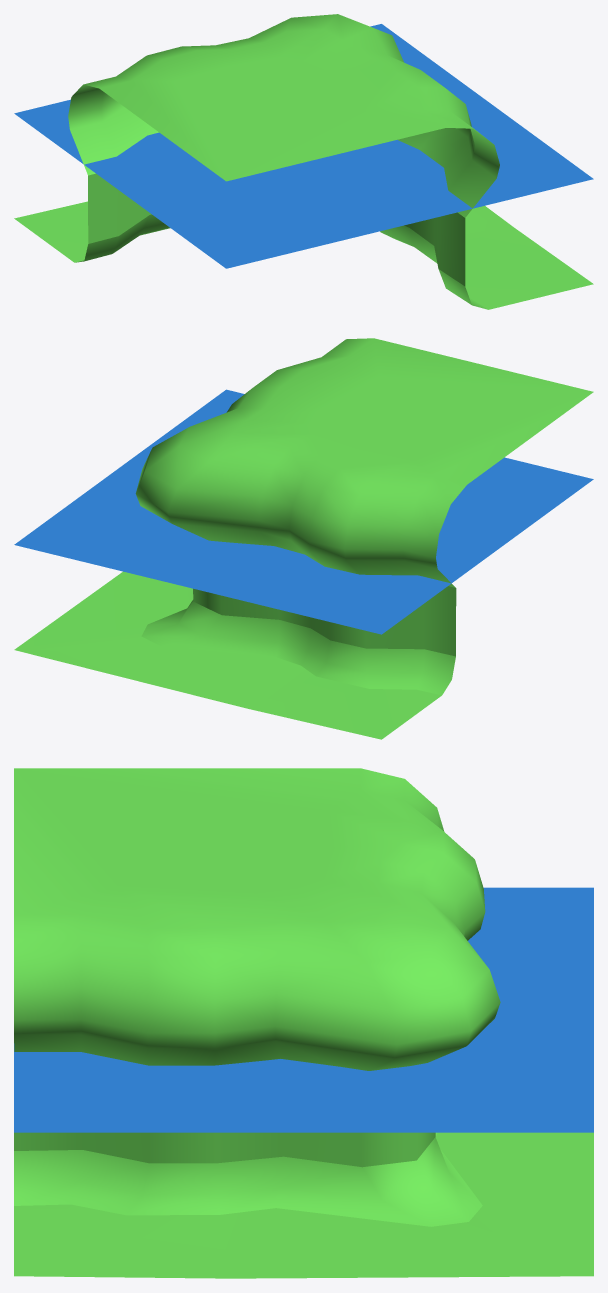
Rendered from River_InteriorCorner_A_Mesh.fbx.
The picture shows the model from 3 angles, top to bottom: view 1: azimuth 30°, elevation 25°; view 2: azimuth 150°, elevation 25°; view 3: azimuth 270°, elevation 25°; orthographic projection. The views are drawn at different scales.
Parts seen in each view (by area): view 1: River_InteriorCorner_A; view 2: River_InteriorCorner_A; view 3: River_InteriorCorner_A.
Part boxes in pixels (bbox=[...]): River_InteriorCorner_A: bbox=[14, 14, 593, 309]; River_InteriorCorner_A: bbox=[14, 338, 593, 739]; River_InteriorCorner_A: bbox=[14, 768, 593, 1278].
Bounding box in the file's own units: 200 × 200 × 101.
